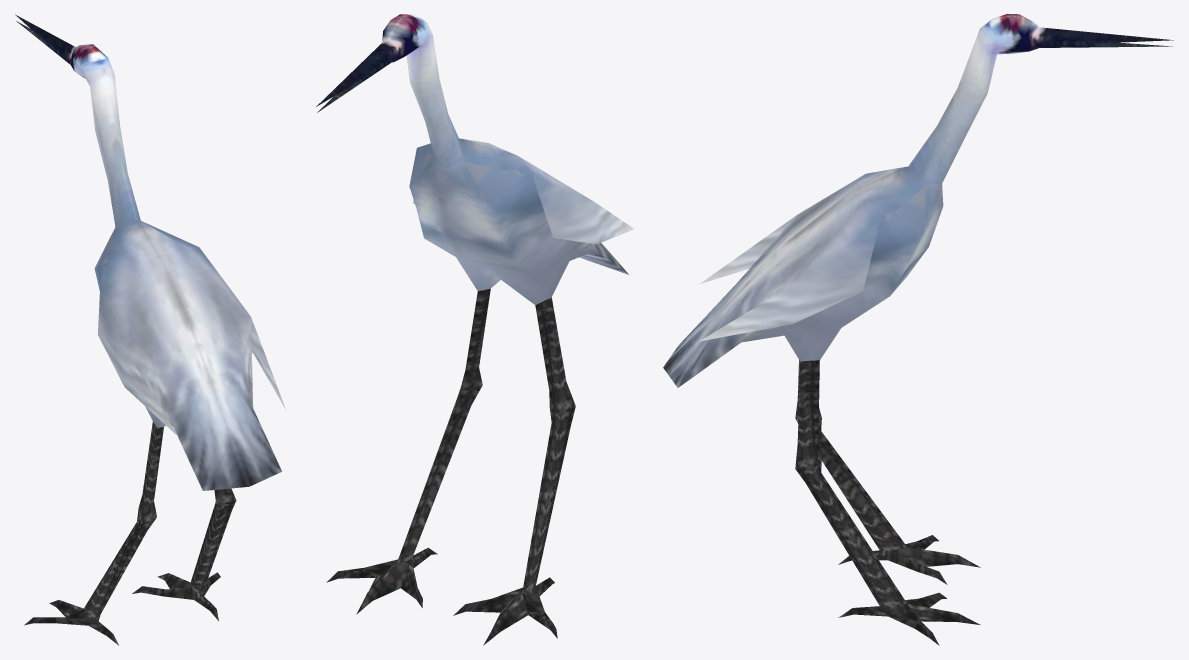
3 renders of one model, left to right at view 1: azimuth 30°, elevation 25°; view 2: azimuth 150°, elevation 25°; view 3: azimuth 270°, elevation 25°, orthographic. The views are drawn at different scales.
Parts seen in each view (by area): view 1: crane_ground; view 2: crane_ground; view 3: crane_ground.
Boxes of the visible parts, left/top/right/bottom form: crane_ground: left=15, top=14, right=286, bottom=645; crane_ground: left=316, top=14, right=634, bottom=645; crane_ground: left=663, top=14, right=1173, bottom=645.
Size of the model in its own units: 1.79 by 4.63 by 3.7.
1 material, 1 textured.
